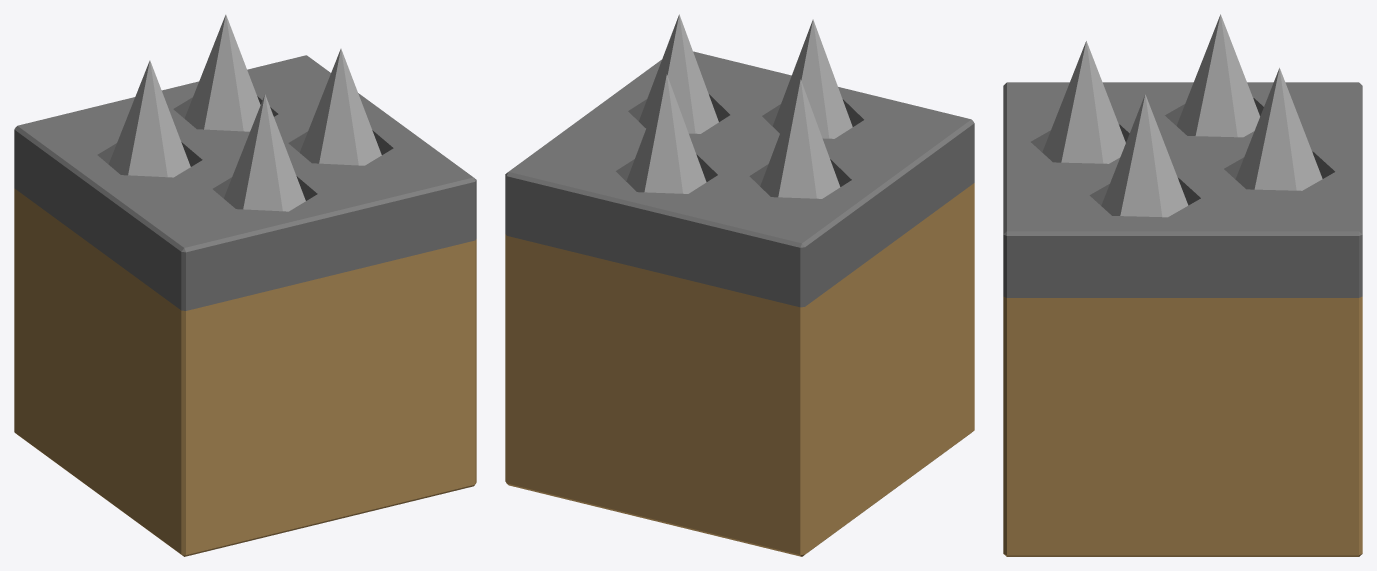
The model's file is HJD_FP_hazzard01.fbx.
3 renders of one model, left to right at view 1: azimuth 30°, elevation 25°; view 2: azimuth 150°, elevation 25°; view 3: azimuth 270°, elevation 25°, orthographic. The views are drawn at different scales.
Parts seen in each view (by area): view 1: platform, spikes; view 2: platform, spikes; view 3: platform, spikes.
Part boxes in pixels (box(x1,y1,x2,y2)): platform: box(14, 55, 476, 556); spikes: box(108, 14, 381, 211); platform: box(505, 51, 974, 556); spikes: box(626, 14, 852, 198); platform: box(1003, 82, 1362, 556); spikes: box(1042, 14, 1322, 217).
Size of the model in its own units: 100 by 132 by 100.
